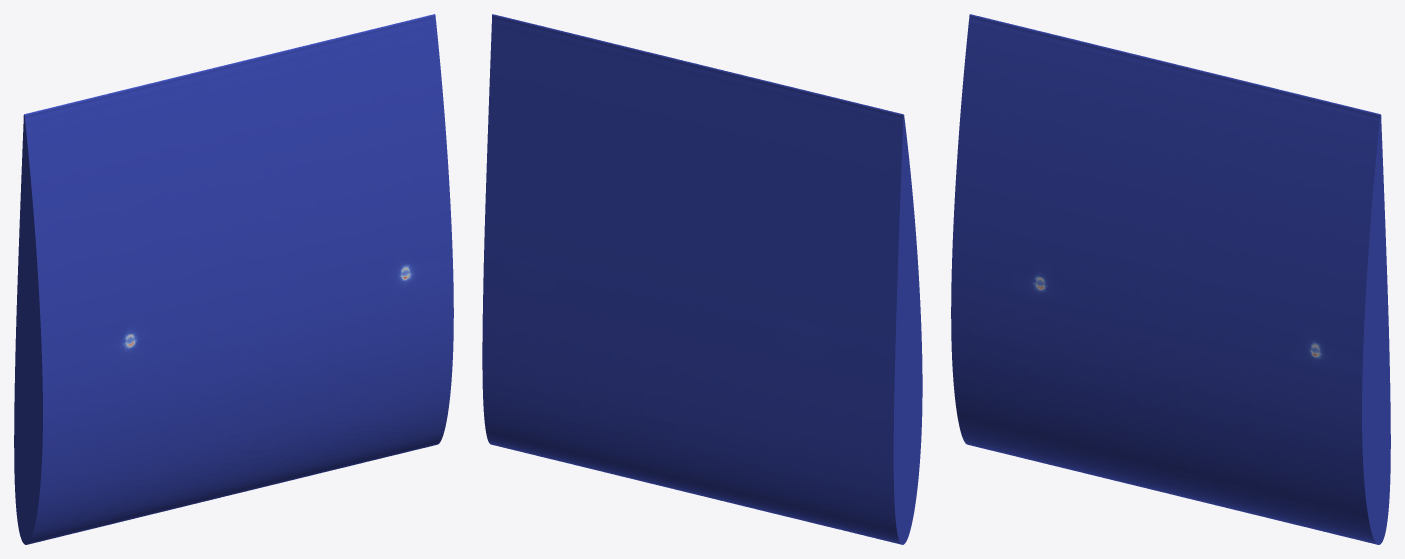
Rendered from ala-estructura.gltf.
3 views of the same model, side by side, from view 1: azimuth 30°, elevation 25°; view 2: azimuth 150°, elevation 25°; view 3: azimuth 330°, elevation 25° (orthographic).
Parts seen in each view (by area): view 1: Renderer Node; view 2: Renderer Node; view 3: Renderer Node.
Part boxes in pixels (left/top/right/bottom): Renderer Node: left=14, top=14, right=453, bottom=544; Renderer Node: left=482, top=14, right=922, bottom=544; Renderer Node: left=951, top=14, right=1390, bottom=544.
Bounding box in the file's own units: 10 × 10 × 1.22.
1 material, 1 textured.
